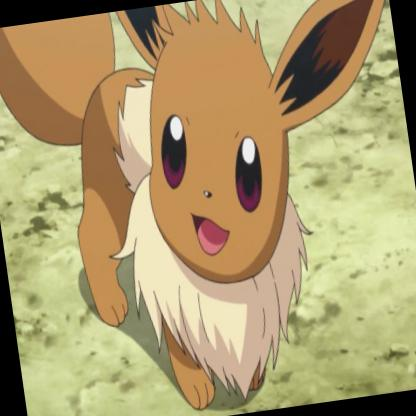Eevee: (19, 1, 402, 416)
